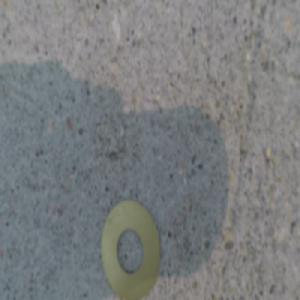Washer: (99, 196, 162, 295)
